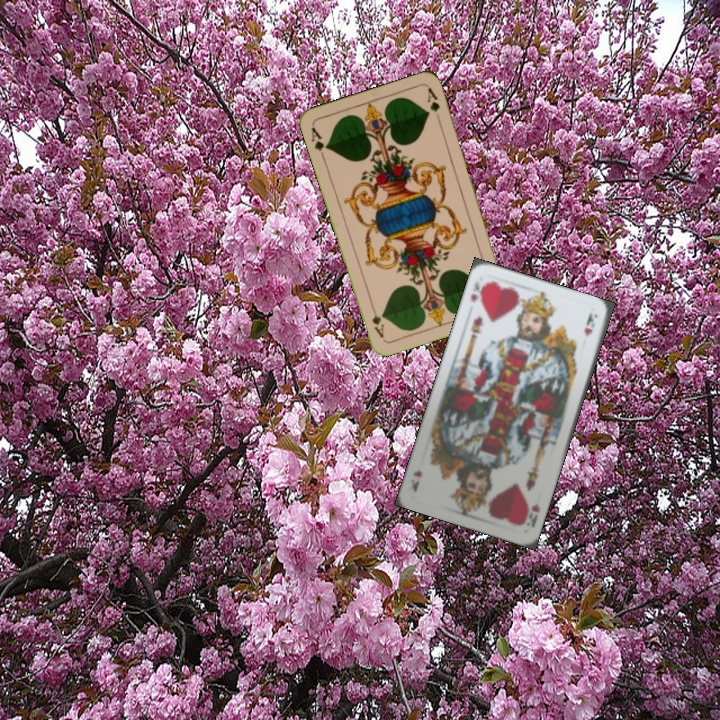GA: (307, 123, 331, 162)
HK: (522, 499, 543, 530), (466, 278, 490, 305)
